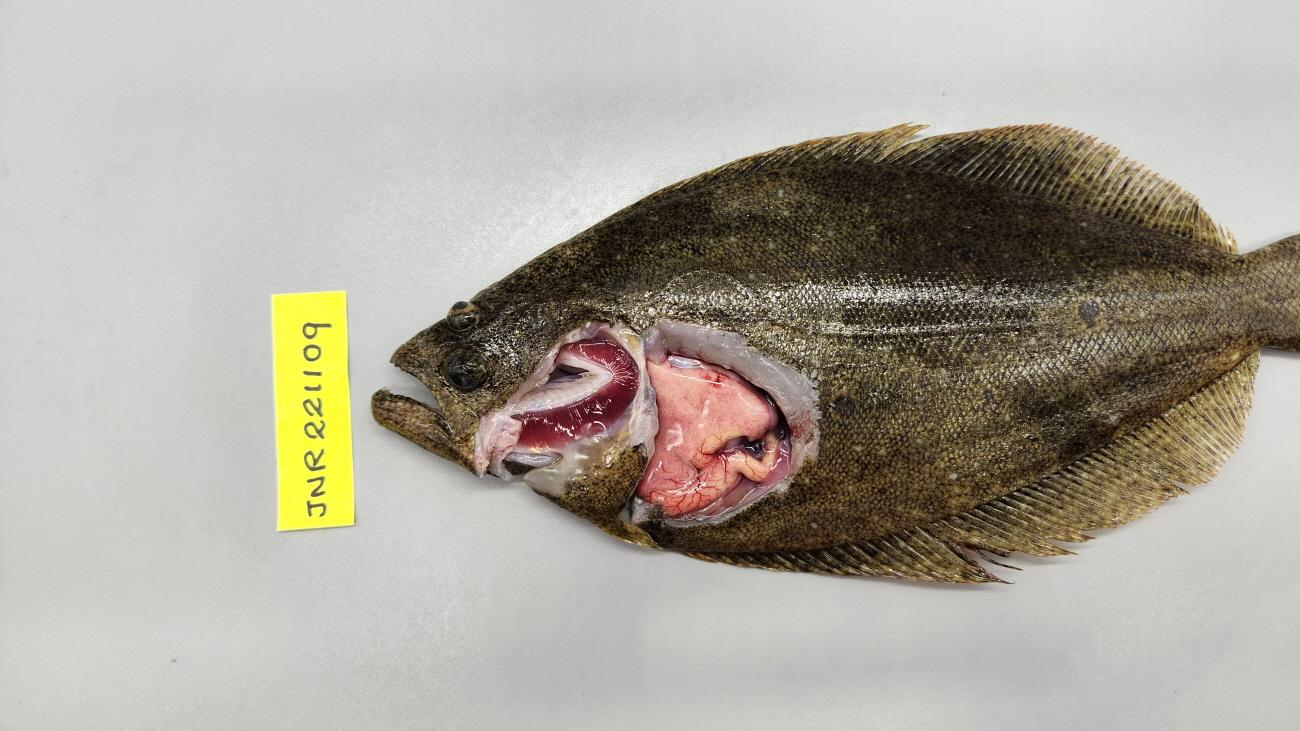POGIN: (509, 329, 639, 450)
POLIN: (636, 357, 769, 497)
